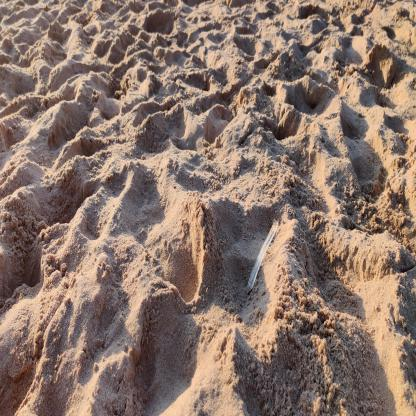plastik: (247, 218, 278, 290)
